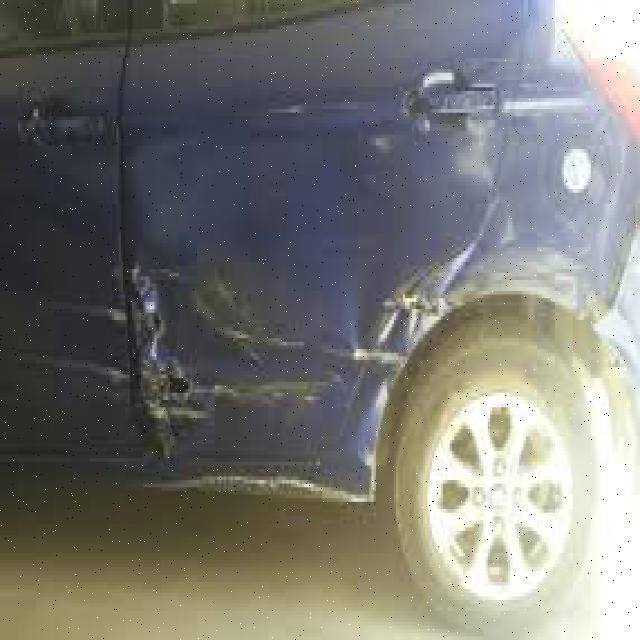doorouter-dent: (130, 22, 434, 462), (0, 51, 126, 463)
quaterpanel-dent: (475, 51, 622, 389)
